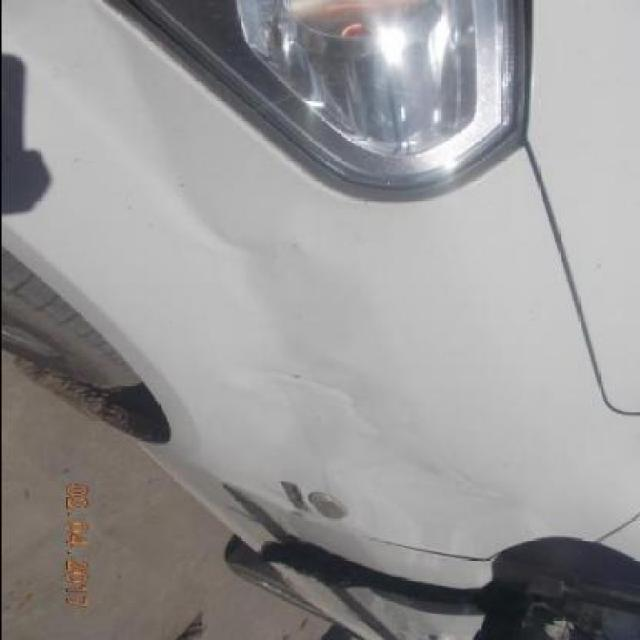damage: (196, 224, 497, 499), (252, 533, 492, 617)
